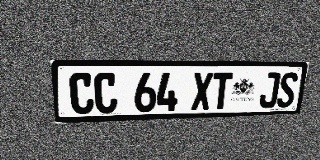4: (156, 72, 179, 112)
6: (135, 72, 157, 112)
C: (69, 72, 94, 114), (94, 72, 117, 114)
J: (258, 72, 281, 108)
S: (276, 72, 299, 108)
T: (211, 72, 233, 110)
X: (191, 72, 213, 110)
